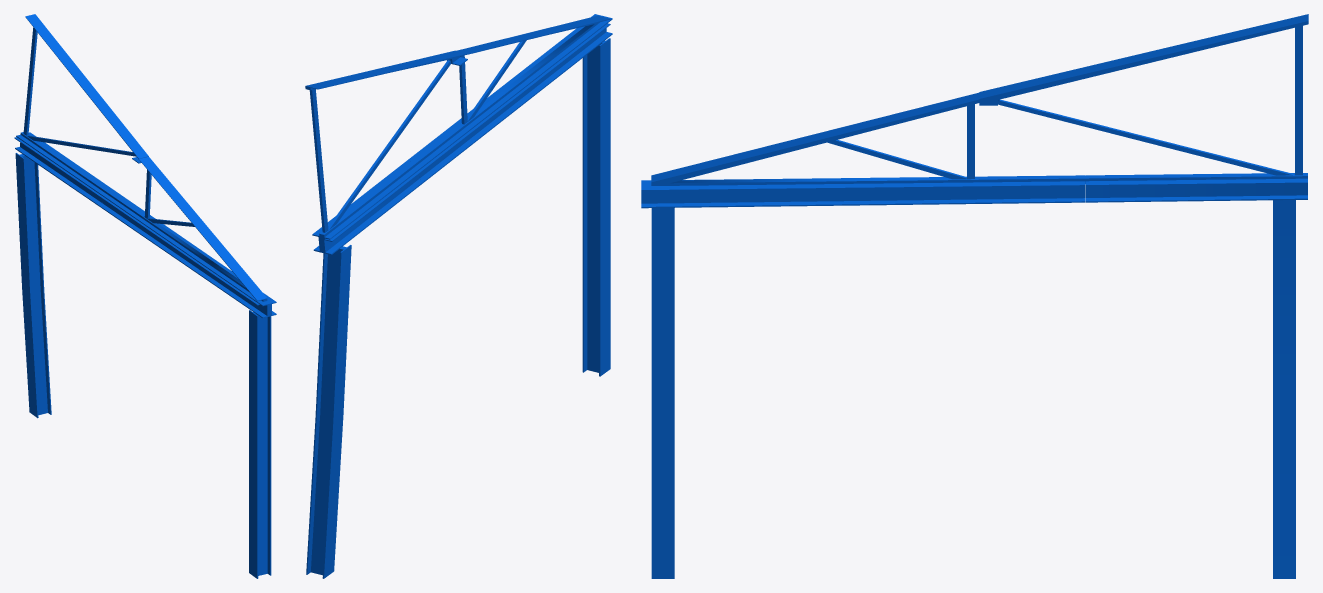
File: Warehouse_05_Metal_01B.fbx
3 views of the same model, side by side, from view 1: azimuth 30°, elevation 25°; view 2: azimuth 150°, elevation 25°; view 3: azimuth 270°, elevation 25° (orthographic). The views are drawn at different scales.
Parts seen in each view (by area): view 1: Warehouse_05_Metal_01B; view 2: Warehouse_05_Metal_01B; view 3: Warehouse_05_Metal_01B.
Part boxes in pixels (bbox=[...]): Warehouse_05_Metal_01B: bbox=[14, 14, 276, 578]; Warehouse_05_Metal_01B: bbox=[305, 14, 612, 578]; Warehouse_05_Metal_01B: bbox=[641, 14, 1308, 578].
Size of the model in its own units: 59.52 by 747 by 813.
